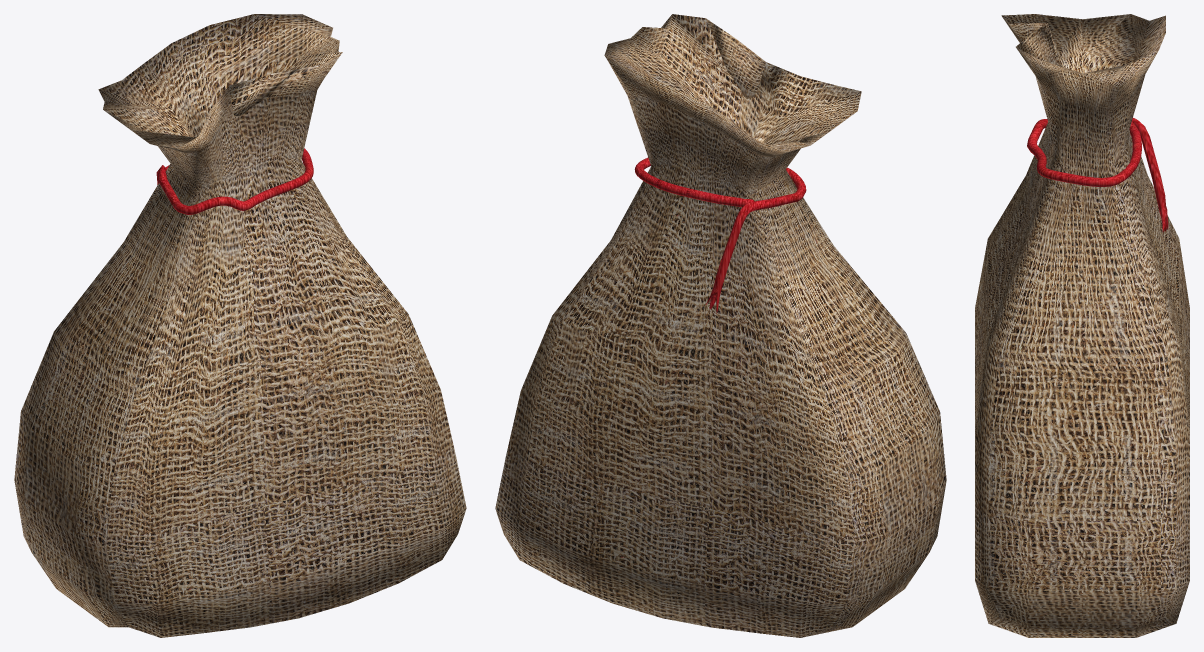
Rendered from sacolavermelha.FBX.
3 renders of one model, left to right at view 1: azimuth 30°, elevation 25°; view 2: azimuth 150°, elevation 25°; view 3: azimuth 270°, elevation 25°, orthographic. The views are drawn at different scales.
Visible parts, largest first — view 1: Box001, Line001; view 2: Box001, Line001; view 3: Box001, Line001.
Boxes of the visible parts, box(x1,y1,x2,y2) form: Box001: box(14, 14, 466, 637); Line001: box(156, 148, 313, 214); Box001: box(495, 14, 946, 637); Line001: box(634, 157, 806, 313); Box001: box(975, 14, 1189, 637); Line001: box(1027, 118, 1168, 232).
Bounding box in the file's own units: 56.84 × 78.61 × 27.07.
Materials: 2 (2 with a texture image).
